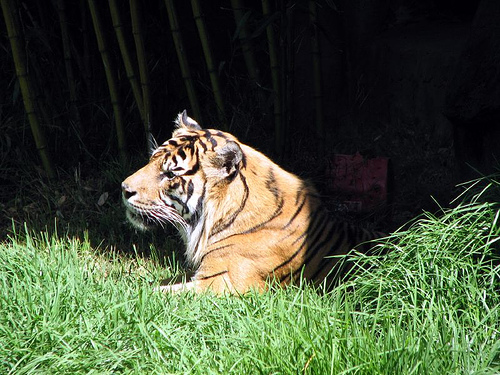Tigre: (125, 115, 276, 284)
